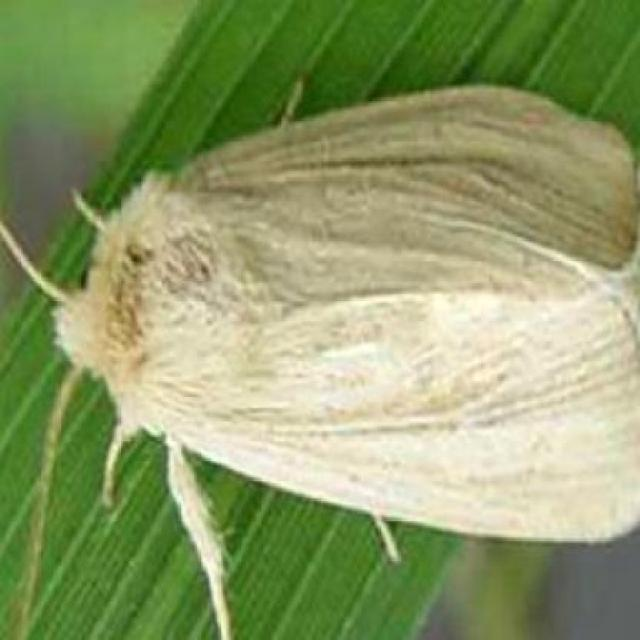stem-borer: (35, 74, 640, 611)
